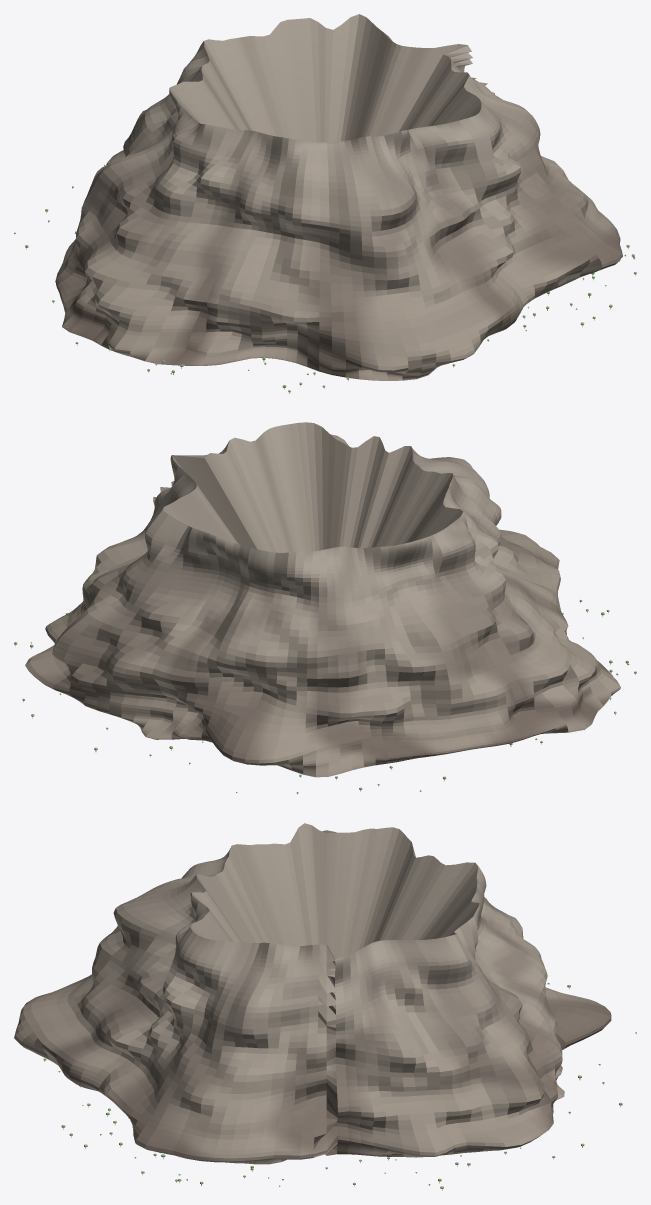
The model's file is aso_rock.glb.
3 views of the same model, one above another, from view 1: azimuth 30°, elevation 25°; view 2: azimuth 150°, elevation 25°; view 3: azimuth 270°, elevation 25° (orthographic).
Visible parts, largest first — view 1: BLD_aso_rock; view 2: BLD_aso_rock; view 3: BLD_aso_rock.
Part boxes in pixels (box(x1,y1,x2,y2)): BLD_aso_rock: box(14, 14, 636, 393); BLD_aso_rock: box(14, 422, 636, 794); BLD_aso_rock: box(14, 823, 636, 1190).
Size of the model in its own units: 1255 by 413 by 1280.
